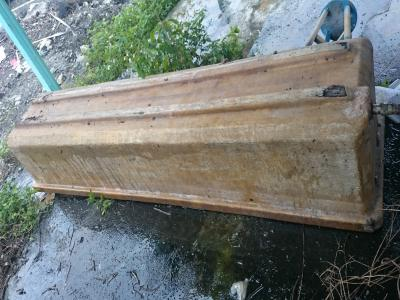box: (4, 34, 387, 235)
